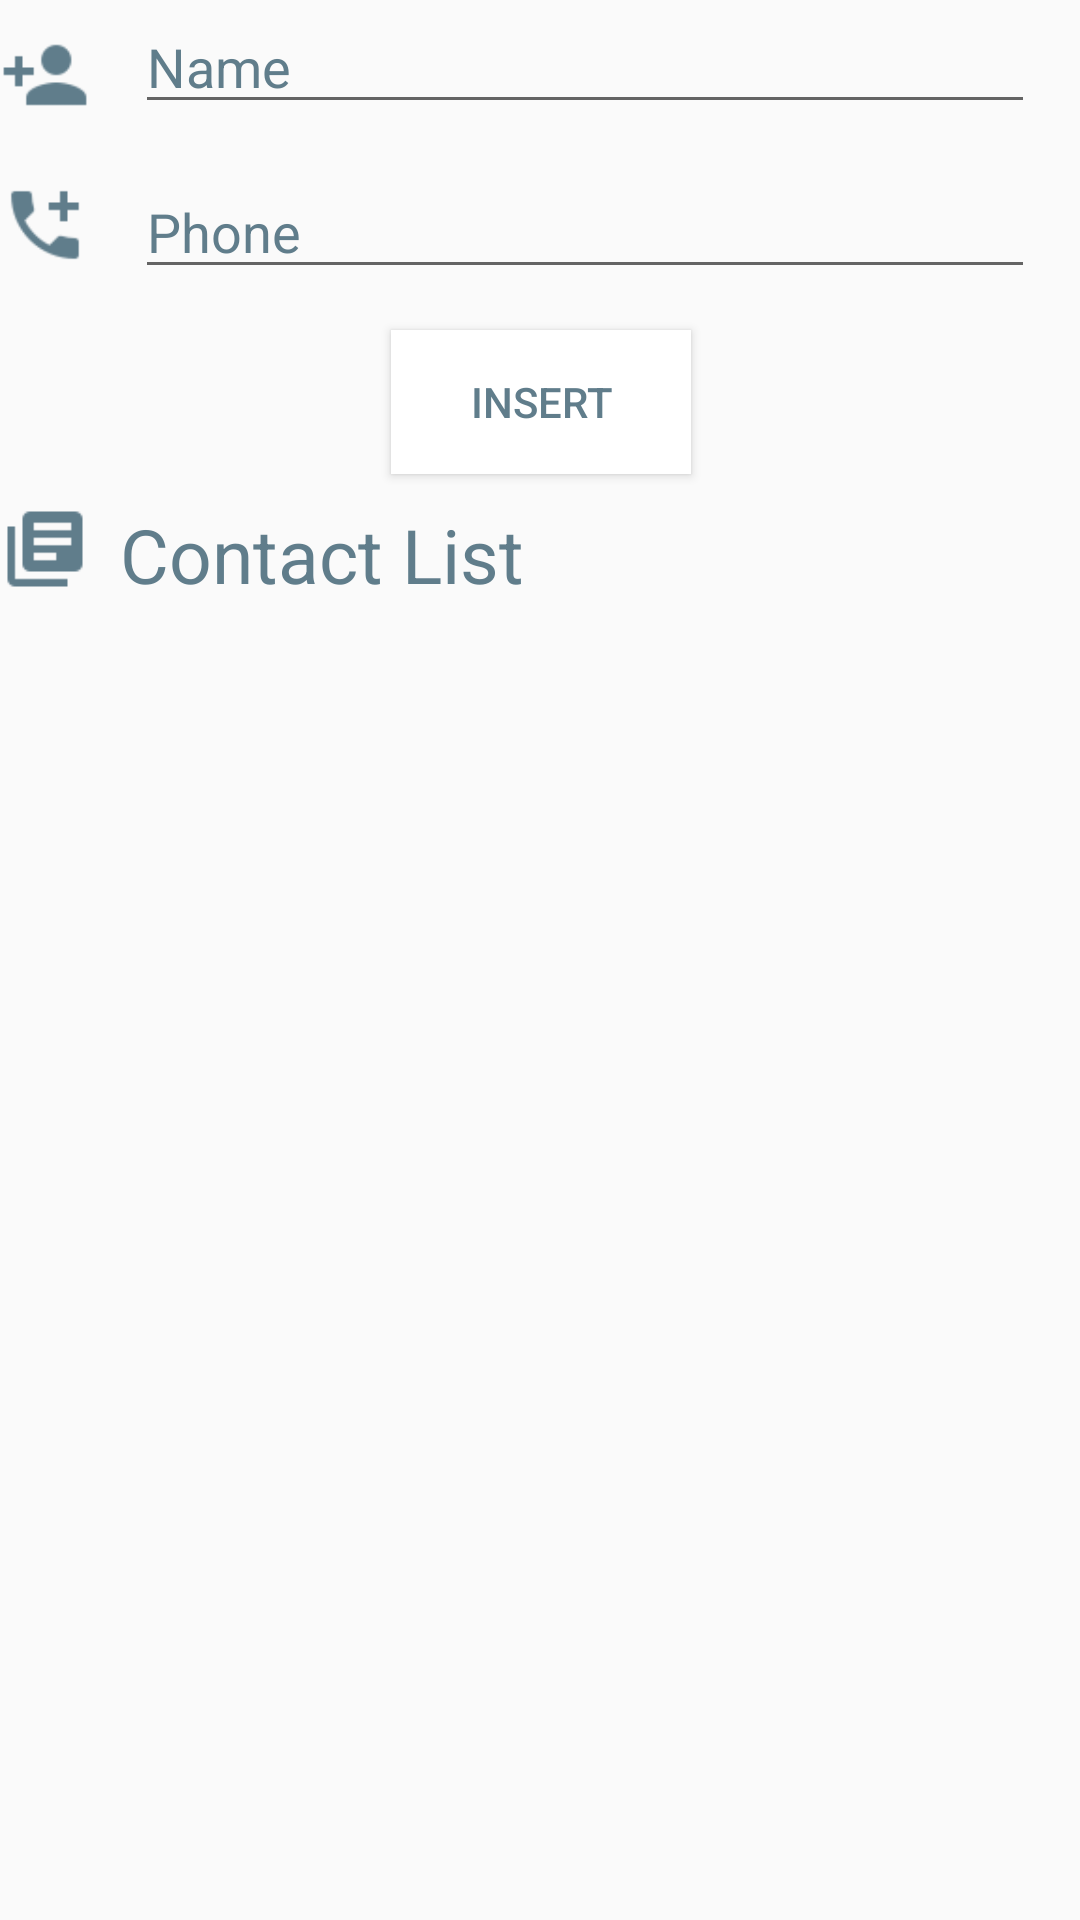

Icon click points for this 1080 x 1920 phone screenshot, format (x,y):
account: (45,75)
